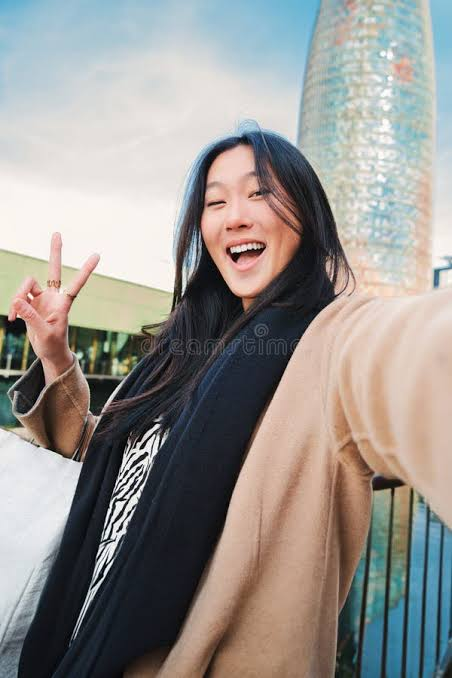peace_sign: (4, 228, 98, 358)
